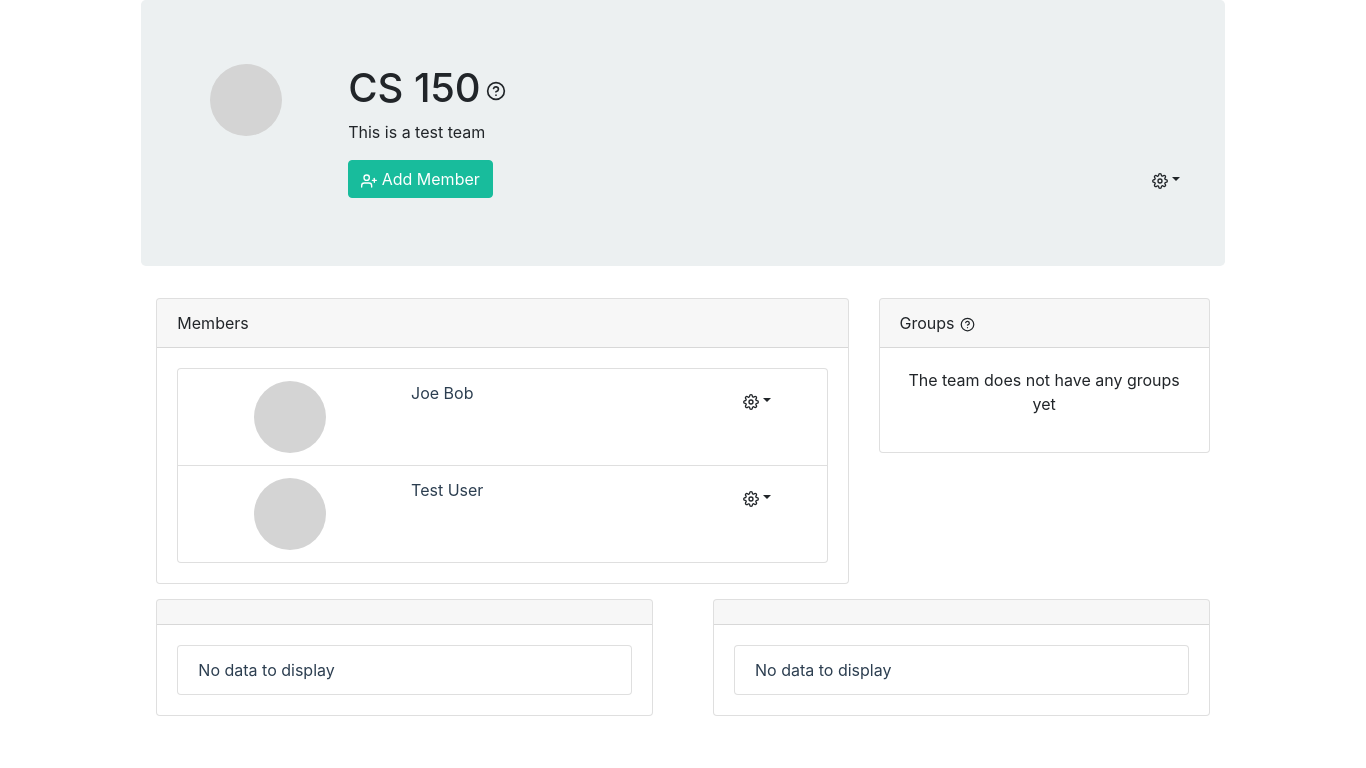
Test: Successfully add member to team
Click the button "Add Member" at (420, 179), box [348,160,493,198]
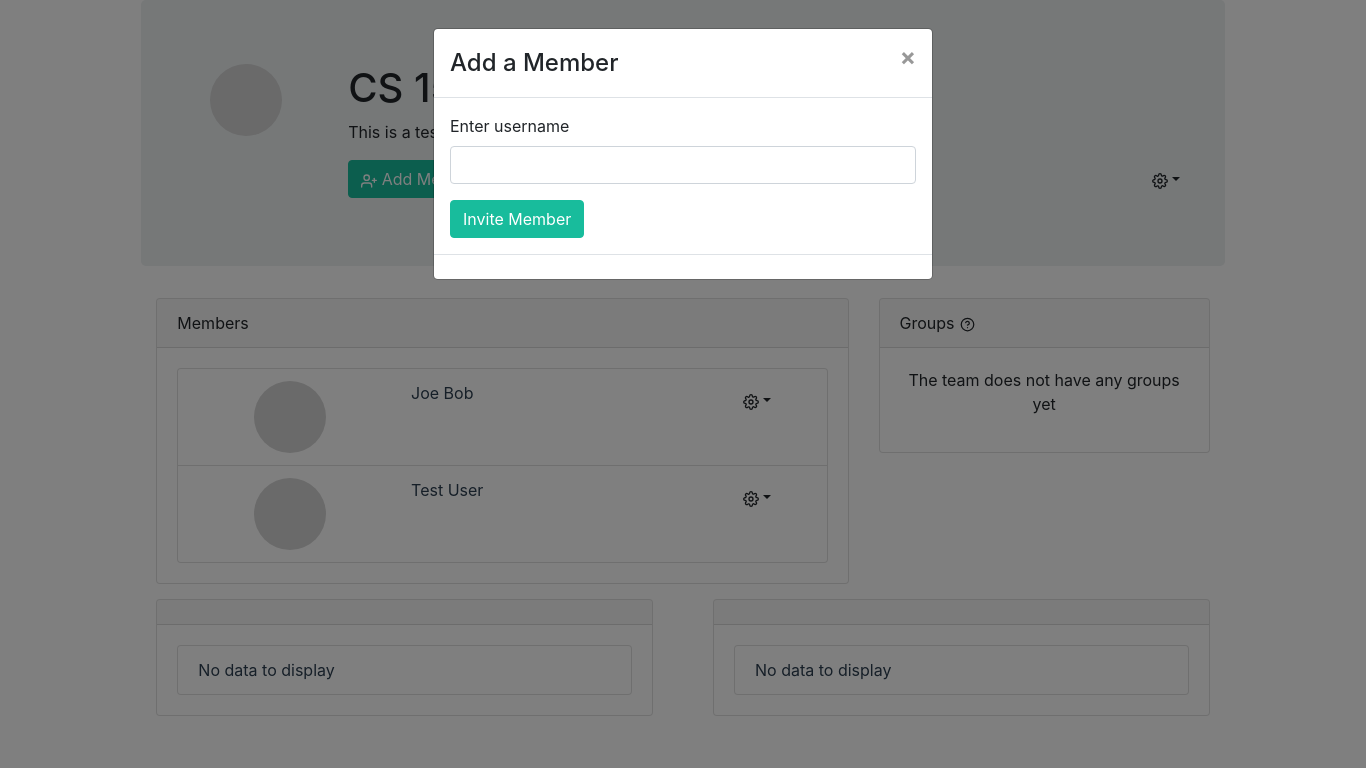
Expected: the text "Add a Member" is shown, [450,45,618,81]
Type "ronweasley" into the field labelled "Enter username" at (683, 165), box [450,146,916,184]
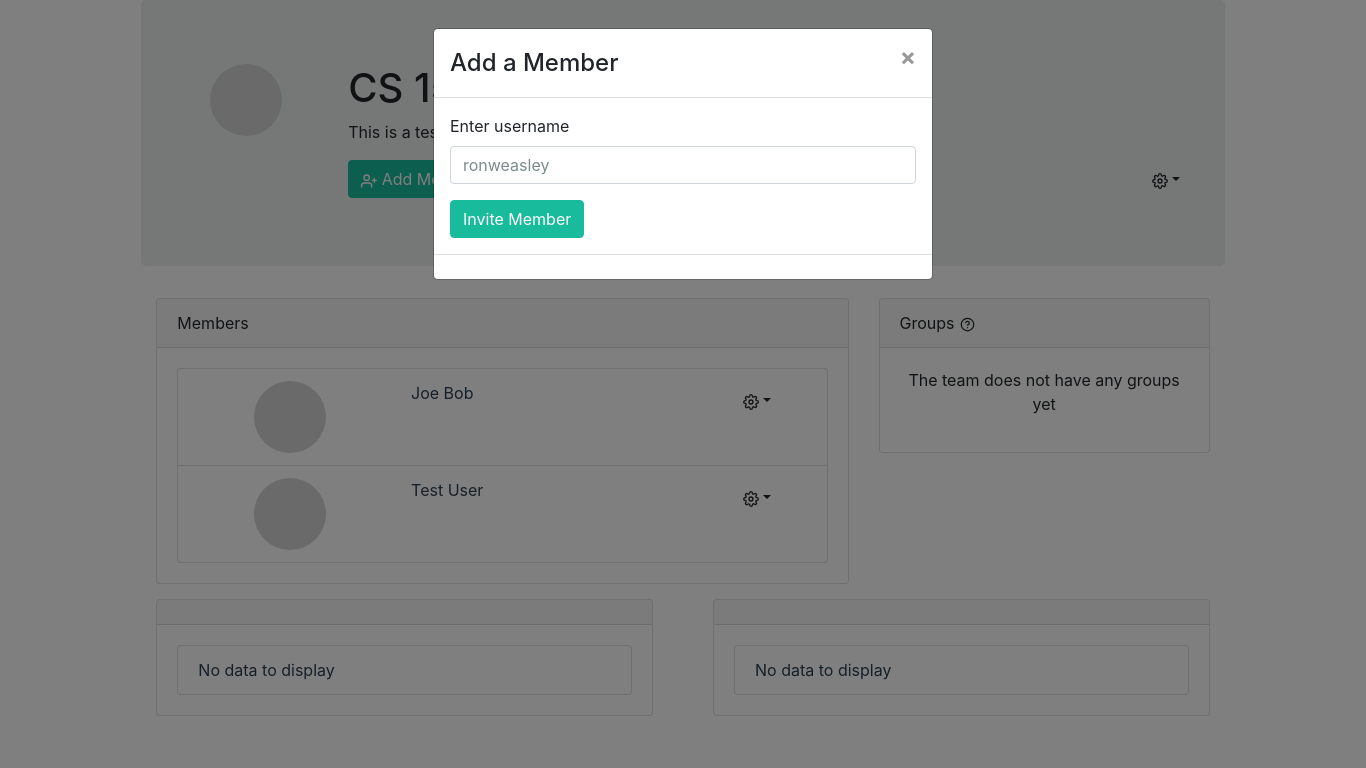
Click the button "Invite Member" at (517, 219), box [450,200,584,238]
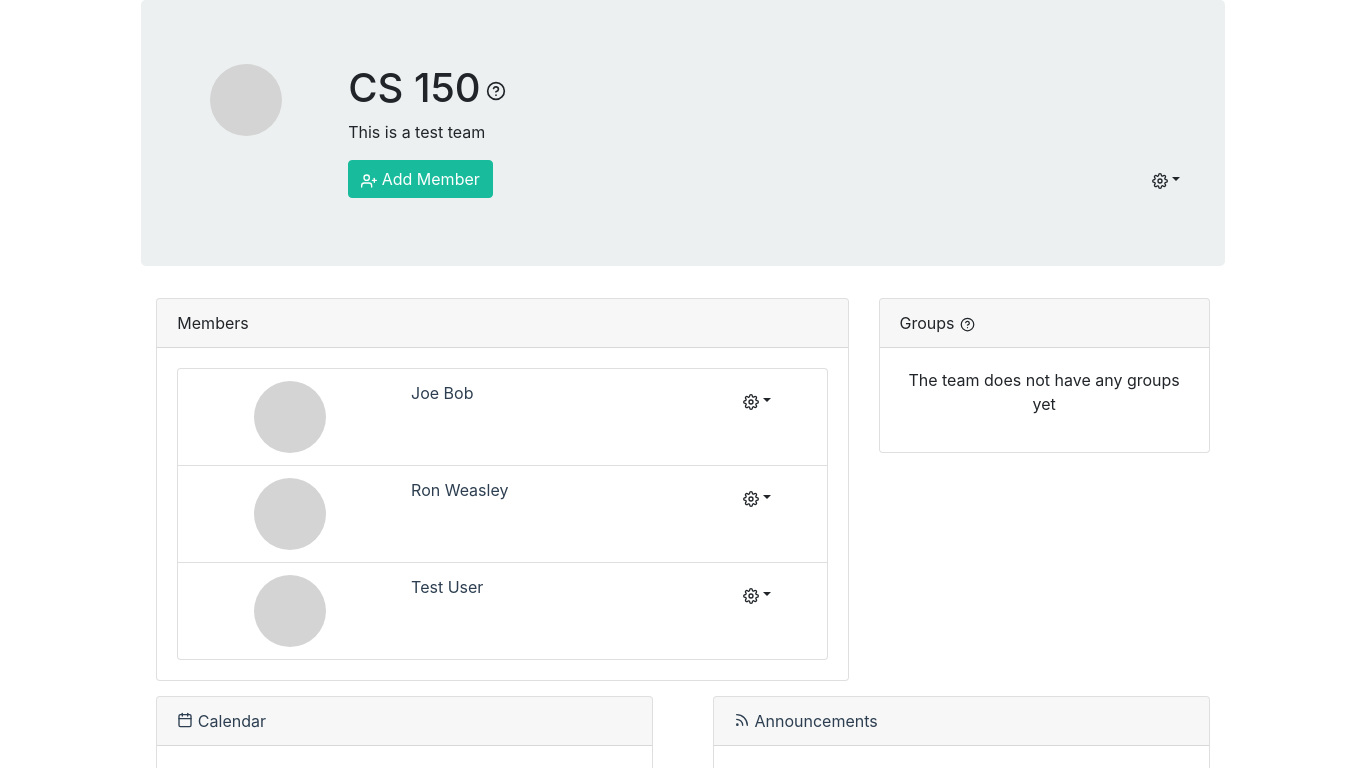
Expected: the text "Ron Weasley" is shown, [411,480,508,500]
